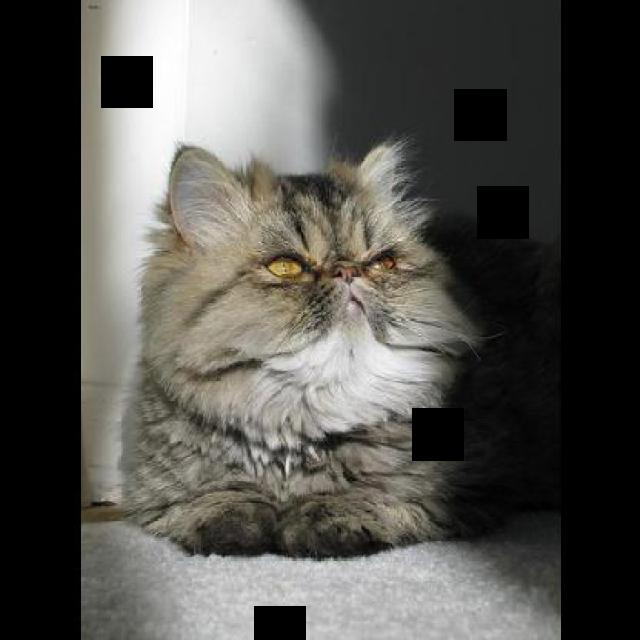unauthorized: (112, 134, 558, 560)
